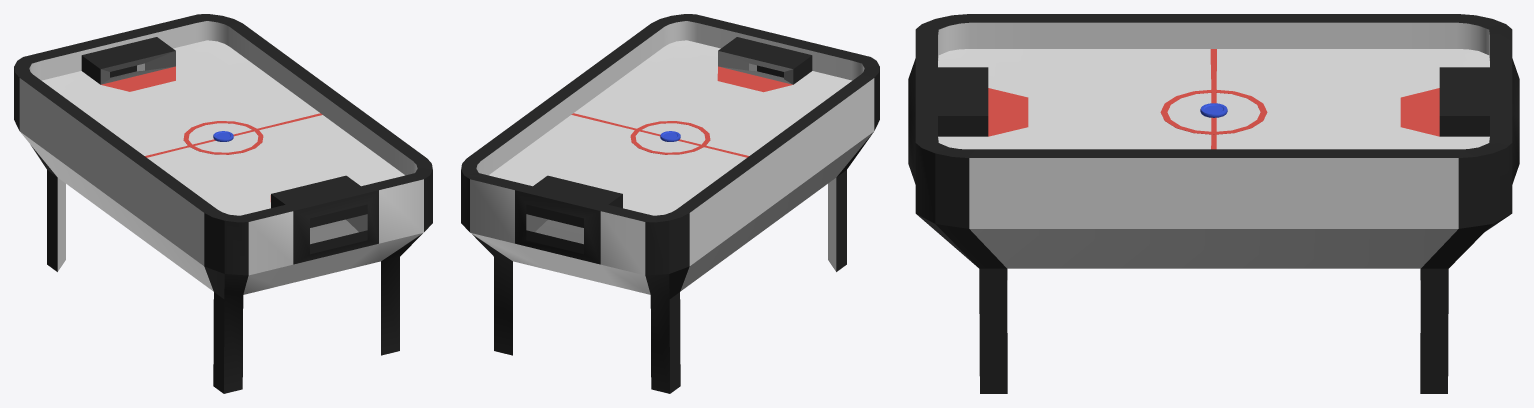
Rendered from air hockey cabinet.fbx.
3 views of the same model, side by side, from view 1: azimuth 30°, elevation 25°; view 2: azimuth 150°, elevation 25°; view 3: azimuth 270°, elevation 25° (orthographic). The views are drawn at different scales.
Visible parts, largest first — view 1: cabinet; view 2: cabinet; view 3: cabinet.
Part boxes in pixels (<box>): cabinet: <box>14,14,432,393</box>; cabinet: <box>461,14,879,393</box>; cabinet: <box>908,14,1519,393</box>.
Bounding box in the file's own units: 1596 × 1297 × 2861.
